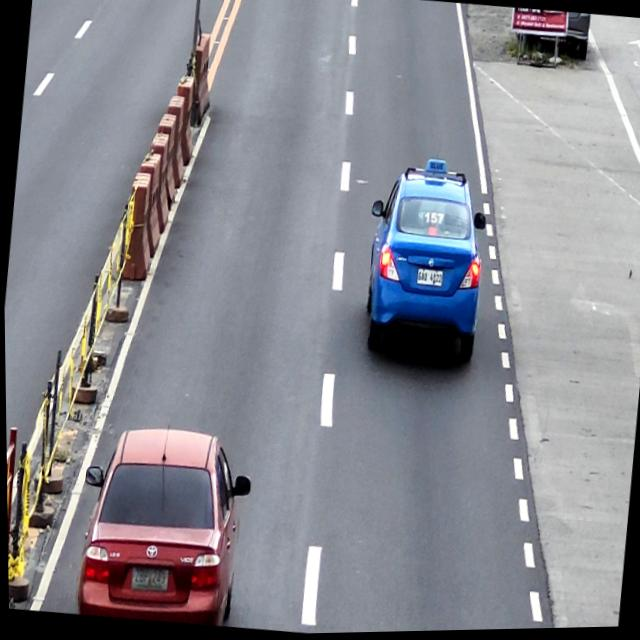Car: (68, 417, 255, 631), (355, 159, 493, 371)
License-Plate: (127, 563, 168, 595), (414, 269, 442, 290)
